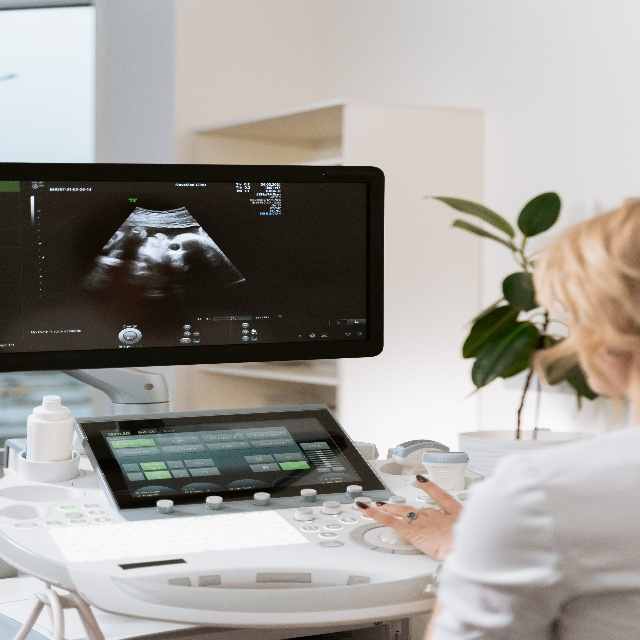Sin_guantes: (354, 471, 465, 563)
